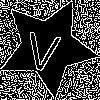V: (23, 22, 64, 73)
